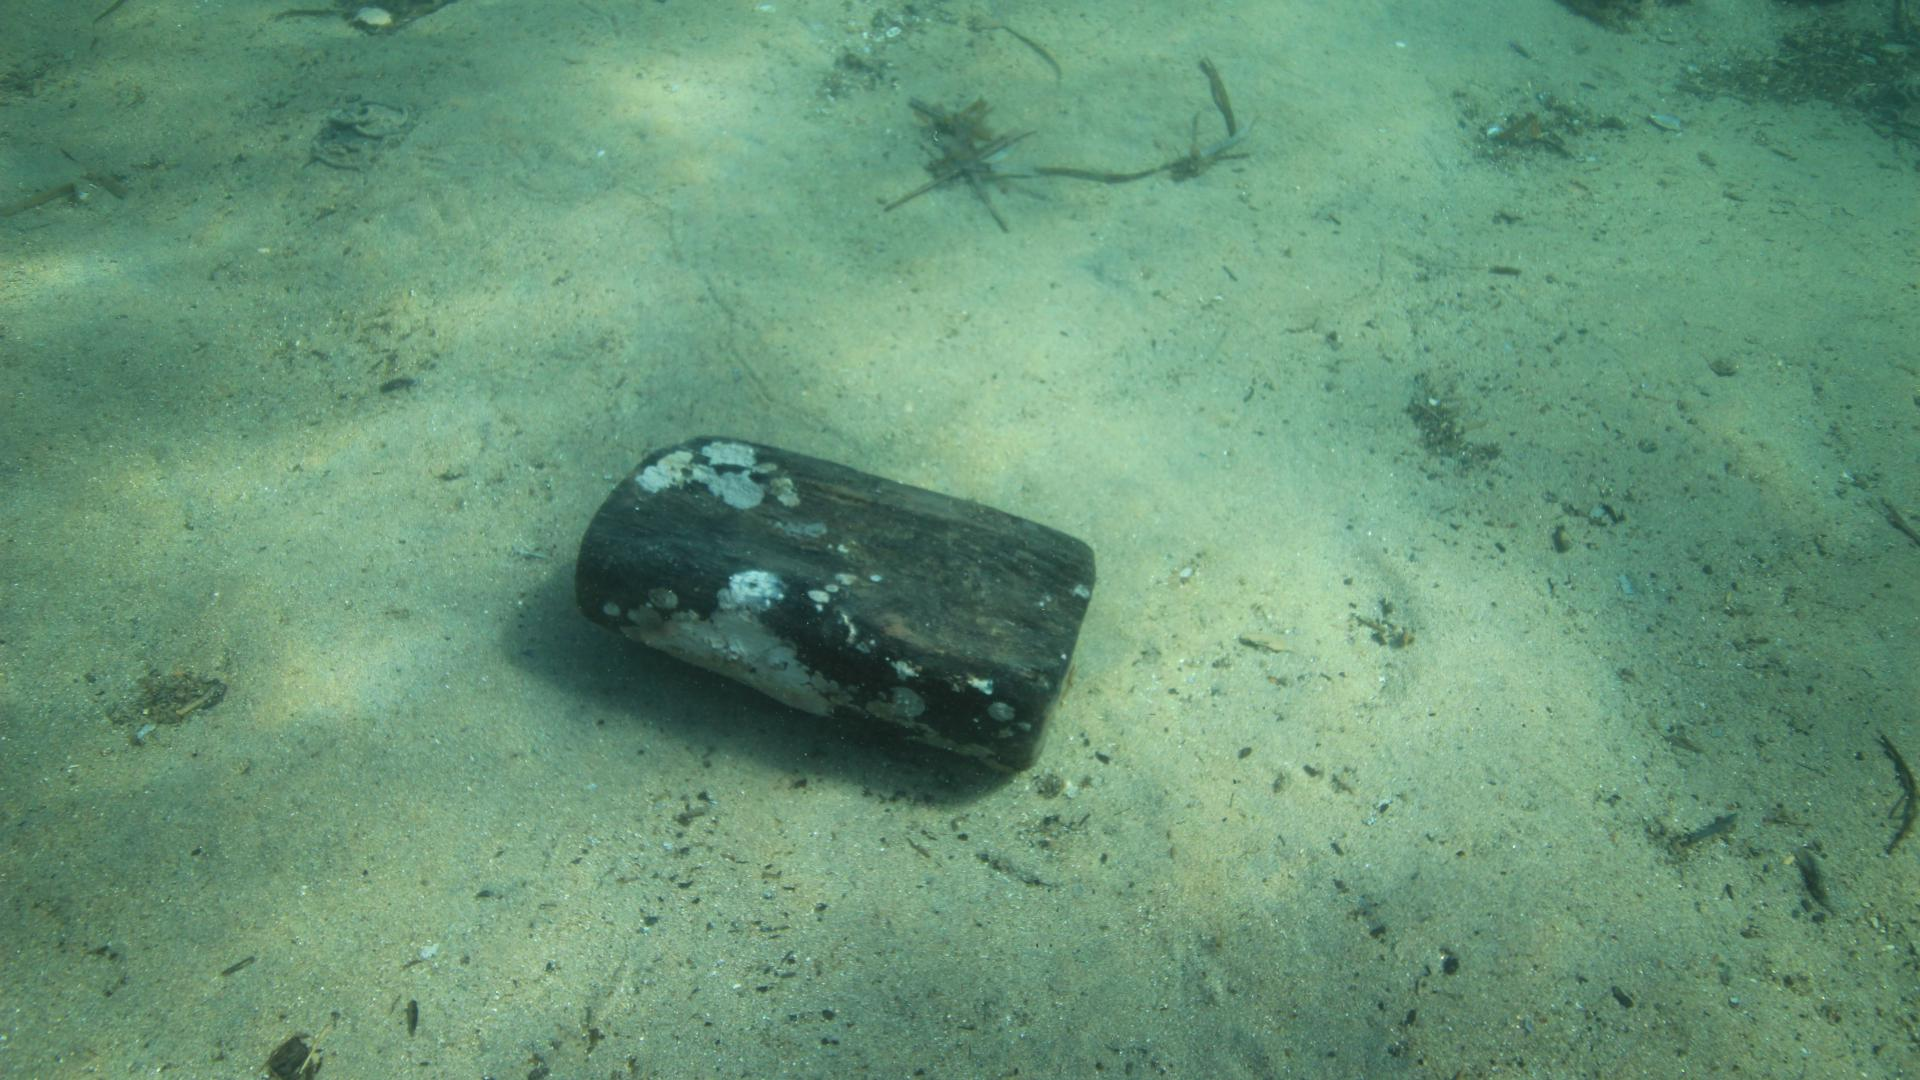wood: (575, 433, 1098, 771)
